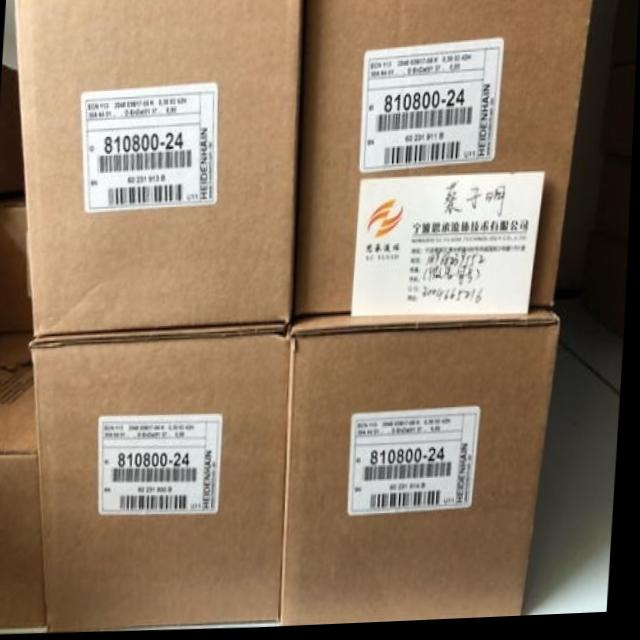box: (15, 0, 304, 338), (298, 0, 593, 318), (284, 310, 563, 624), (36, 330, 296, 631), (0, 329, 52, 627), (0, 193, 35, 334), (588, 225, 631, 328), (0, 63, 29, 198), (556, 221, 598, 313), (580, 0, 618, 94), (602, 64, 637, 157), (599, 148, 634, 229), (565, 150, 602, 226), (610, 0, 639, 69), (573, 94, 604, 152)
